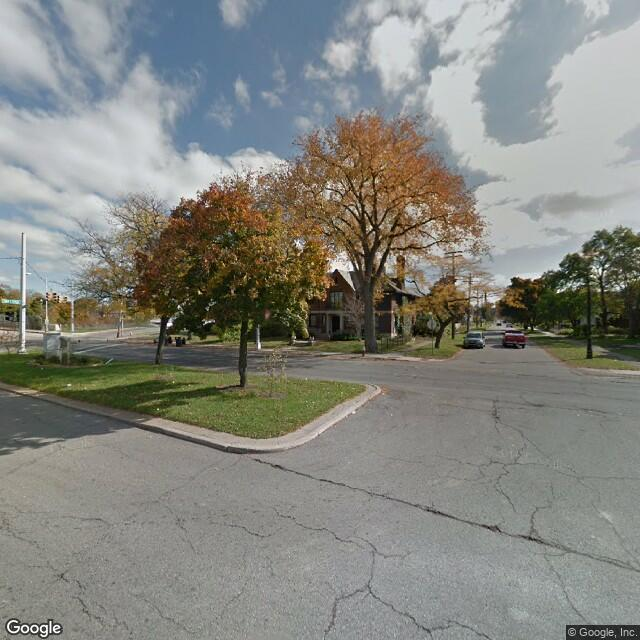litter: (348, 408, 359, 418), (65, 380, 73, 388), (168, 379, 177, 385), (153, 409, 159, 413)
